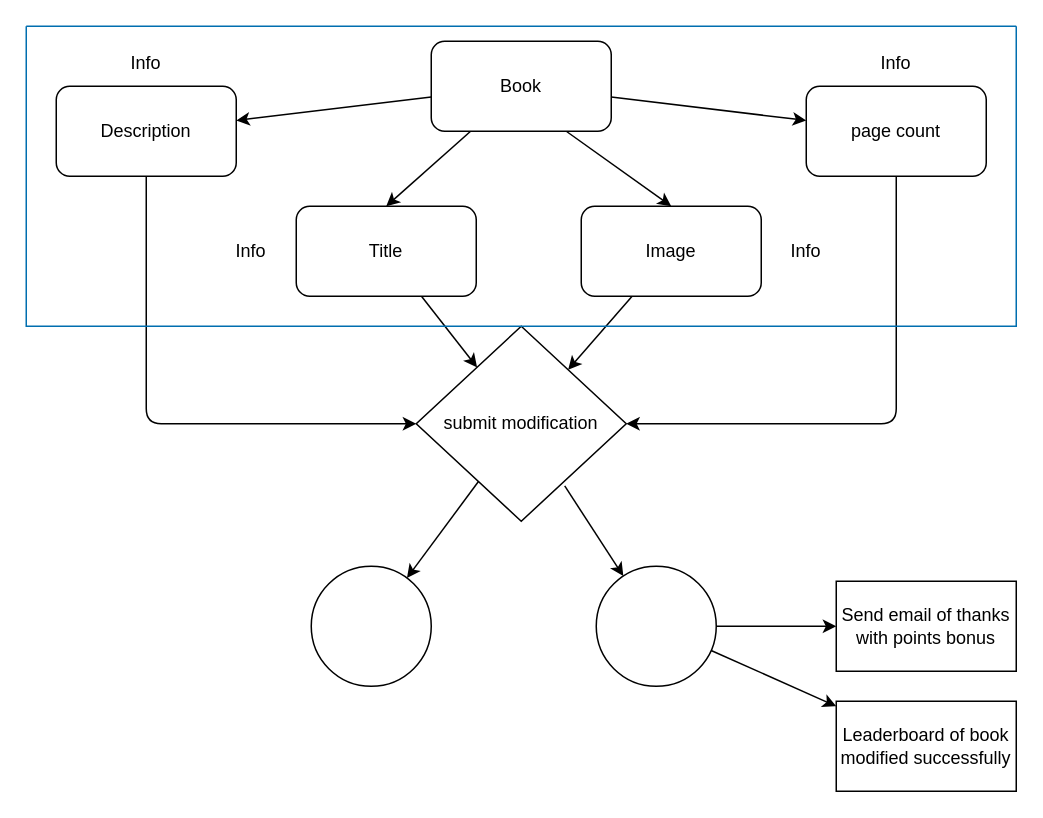
Image size: 1043x818. Some labels were removed from this diagram. The shapes that lost their labels are listed below. From the top down, each one's centre as x and y in pixels, then its label:
pixel 370 625: Not Accepted
pixel 655 625: Accepted
